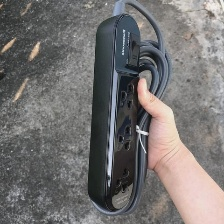three_eye_plug: (82, 6, 147, 216)
